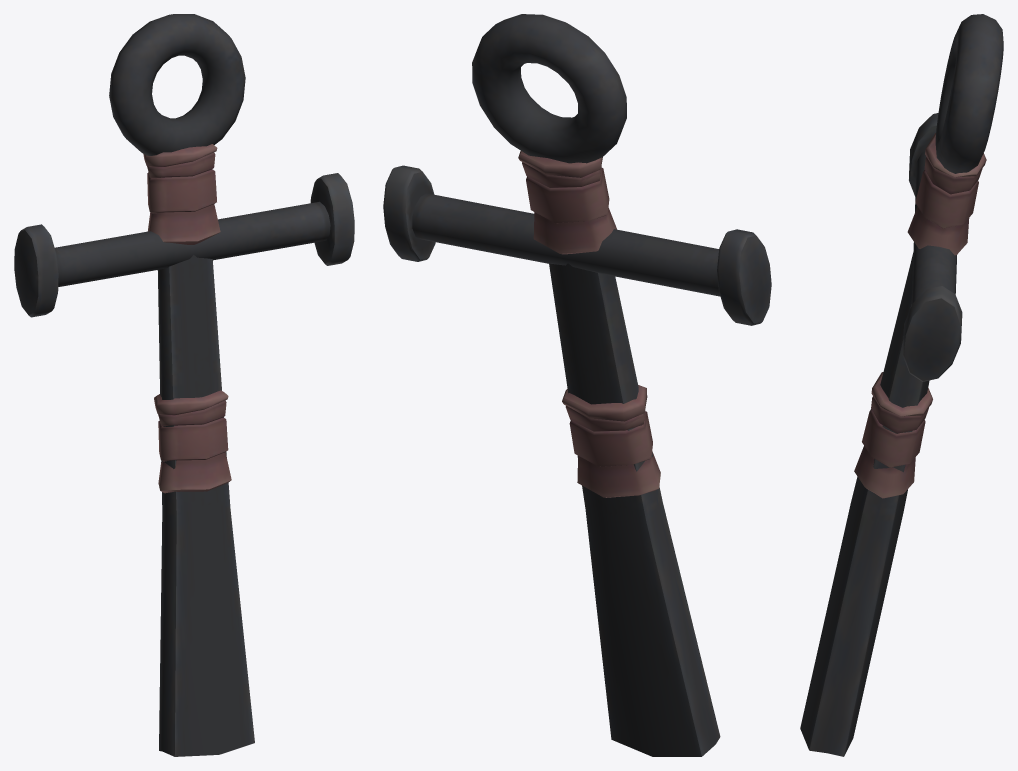
Rendered from PUZZLE_ANCHOR.fbx.
3 renders of one model, left to right at view 1: azimuth 30°, elevation 25°; view 2: azimuth 150°, elevation 25°; view 3: azimuth 270°, elevation 25°, orthographic. The views are drawn at different scales.
Parts seen in each view (by area): view 1: MeshBaker_mesh_mesh; view 2: MeshBaker_mesh_mesh; view 3: MeshBaker_mesh_mesh.
Boxes of the visible parts, <box> form: MeshBaker_mesh_mesh: <box>14,14,354,756</box>; MeshBaker_mesh_mesh: <box>383,14,771,756</box>; MeshBaker_mesh_mesh: <box>800,14,1003,756</box>.
Bounding box in the file's own units: 57.04 × 116 × 29.01.
1 material, 1 textured.
